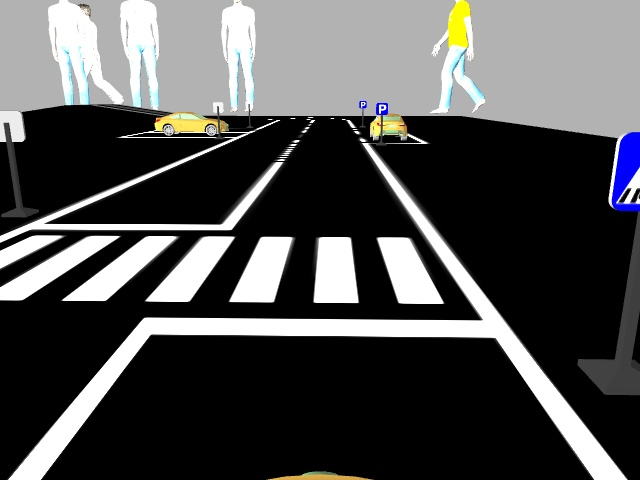Parking: (374, 102, 388, 115), (357, 98, 367, 108)
